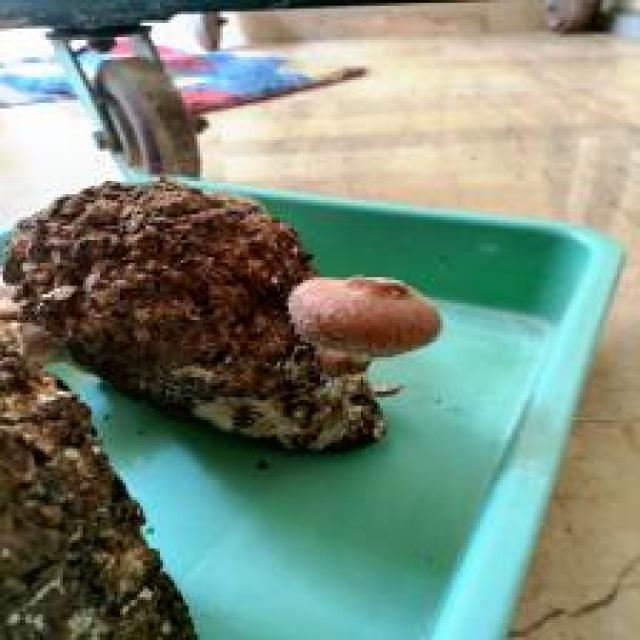chanterelle: (0, 174, 440, 454)
